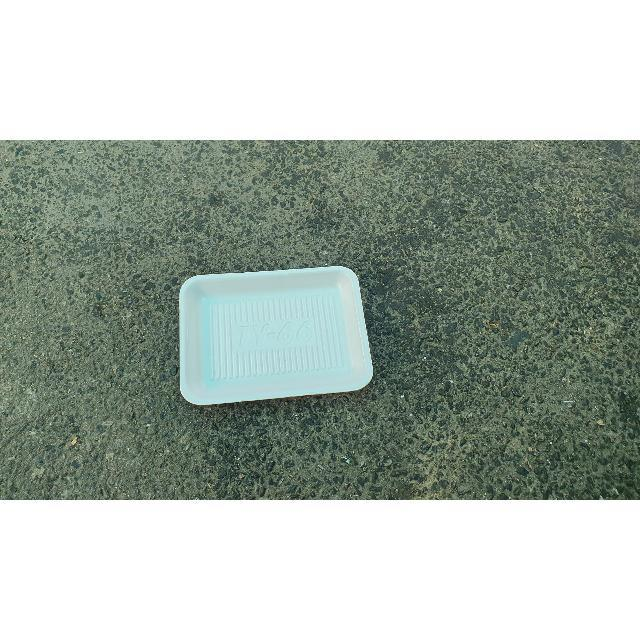Recipiente plastico: (180, 266, 372, 404)
